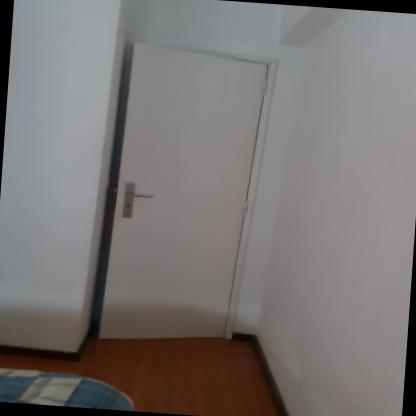closed: (88, 42, 278, 349)
